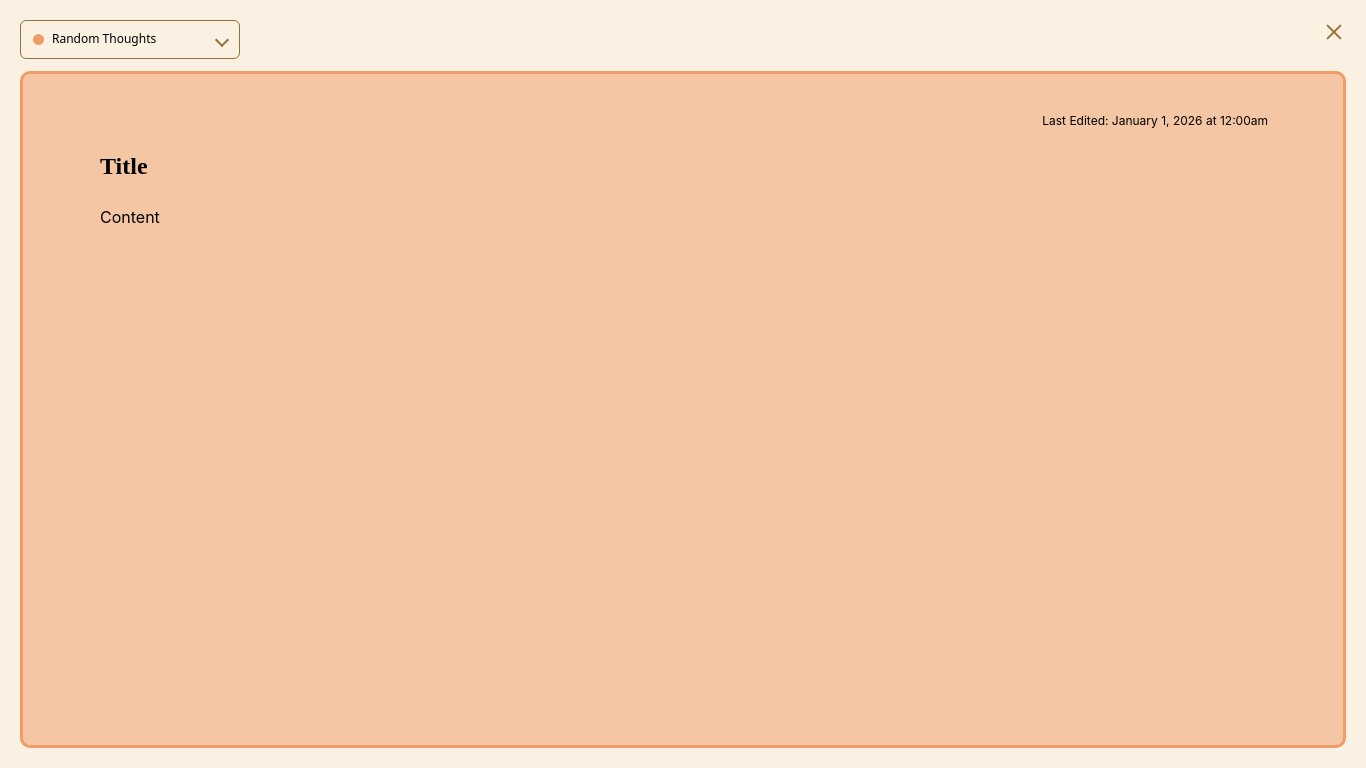
NoteEditor › updates category when selecting an option with a loaded draft
This screenshot has width=1366, height=768.
Click the button "Random Thoughts" at [130, 40], box [20,20,240,59]
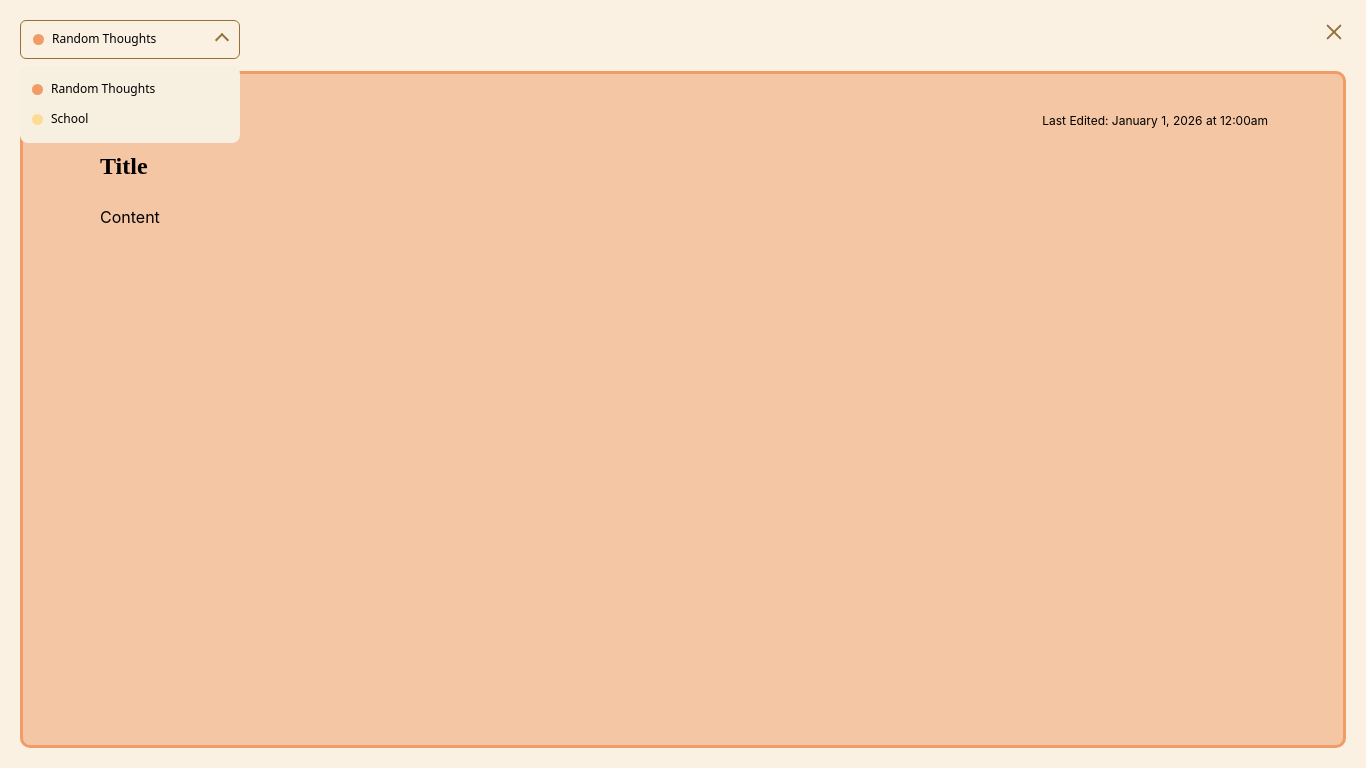
Click the button "School" at [130, 120], box [20,104,240,135]
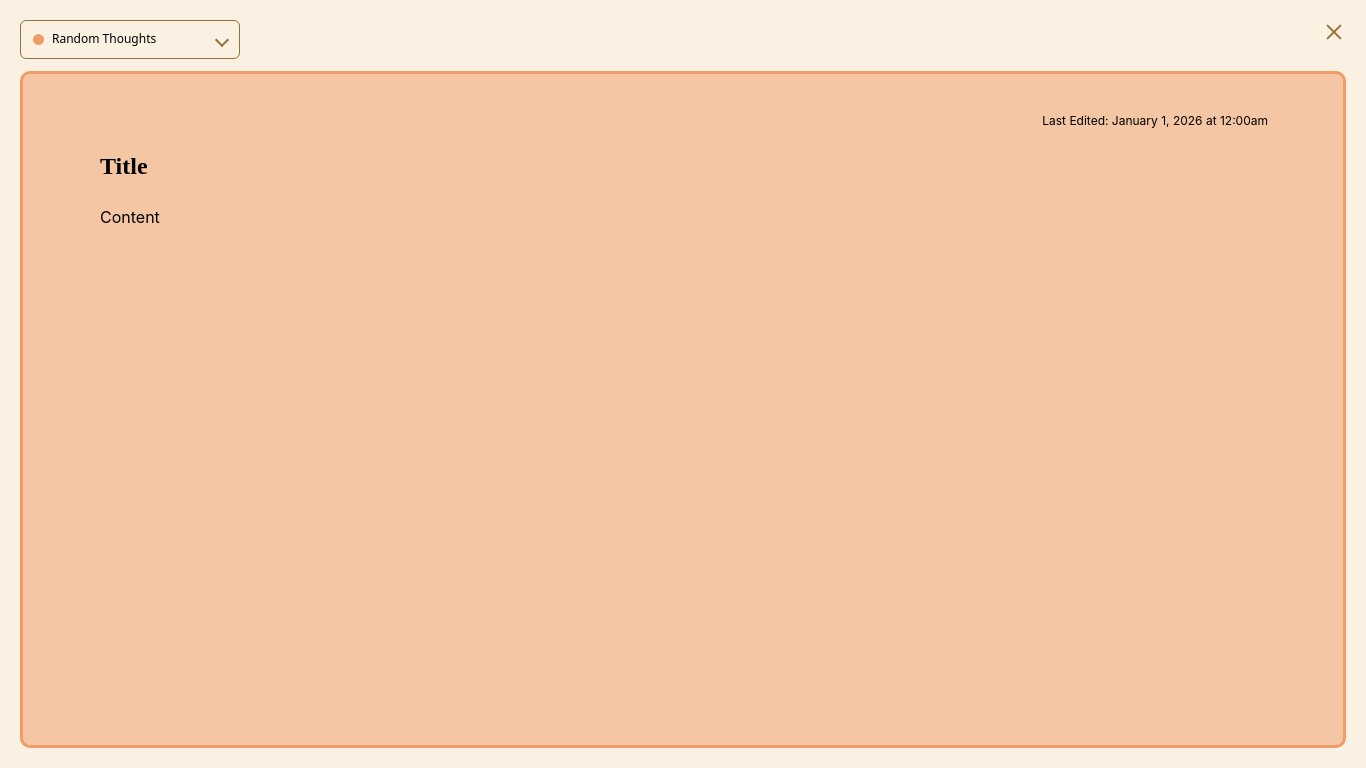
Expected: the list is gone
